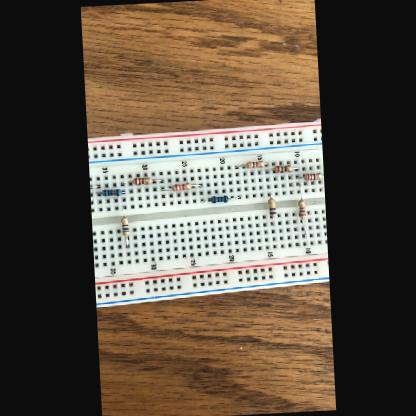breadboard: (87, 118, 330, 308)
resistor: (273, 164, 293, 174), (120, 216, 130, 235), (172, 182, 192, 191), (101, 188, 121, 196), (298, 198, 306, 218), (247, 160, 266, 168), (133, 176, 152, 184), (268, 198, 276, 216), (304, 173, 323, 180), (211, 196, 228, 203)
wire: (300, 218, 306, 236), (296, 184, 302, 198), (124, 236, 128, 247), (121, 180, 132, 184), (122, 205, 126, 216), (152, 178, 162, 182), (200, 198, 210, 202), (229, 196, 240, 199), (265, 168, 273, 172), (235, 165, 245, 168), (192, 184, 202, 187), (271, 216, 274, 224), (160, 188, 172, 190), (293, 167, 299, 170), (90, 186, 99, 188), (268, 192, 271, 198), (296, 176, 304, 178), (95, 192, 101, 193), (265, 163, 267, 165), (121, 192, 125, 193), (322, 174, 323, 176)
